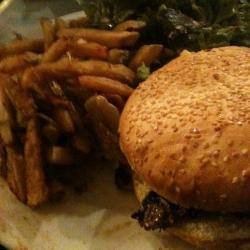burger: (123, 48, 250, 245)
fries: (5, 34, 118, 180)
